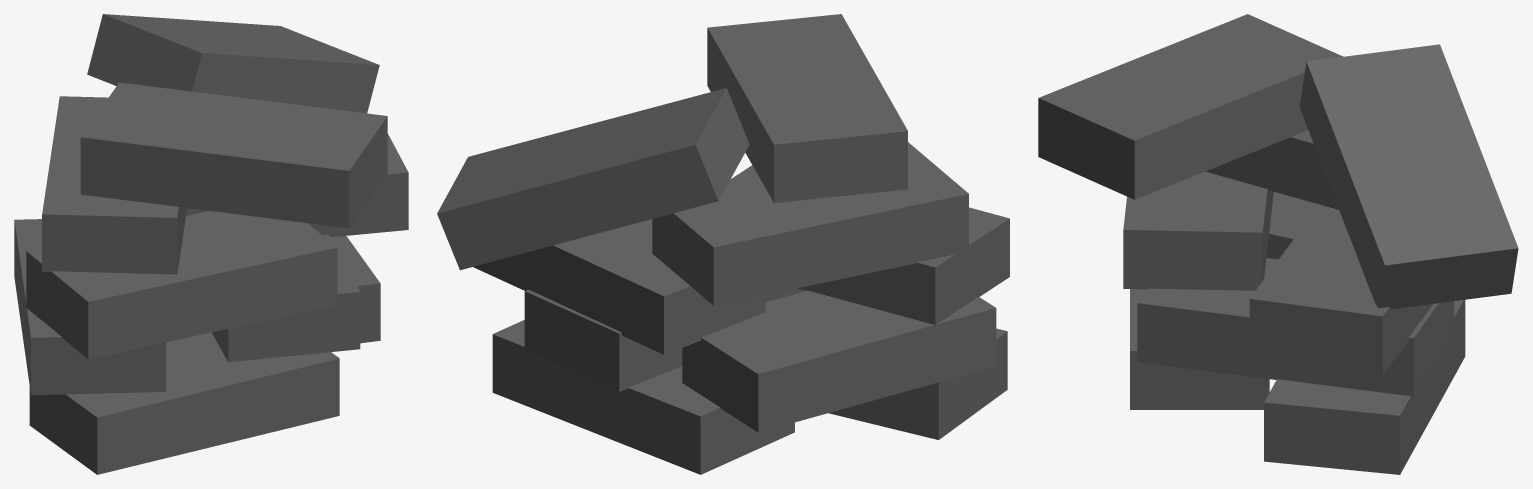
Rendered from ColoredLooseBricks5.fbx.
The picture shows the model from 3 angles, left to right: view 1: azimuth 30°, elevation 25°; view 2: azimuth 150°, elevation 25°; view 3: azimuth 270°, elevation 25°; orthographic projection. The views are drawn at different scales.
Visible parts, largest first — view 1: Cube.009; view 2: Cube.009; view 3: Cube.009.
Part boxes in pixels (x1=…): Cube.009: x1=14, y1=14, x2=408, y2=474; Cube.009: x1=437, y1=14, x2=1009, y2=474; Cube.009: x1=1038, y1=14, x2=1518, y2=474.
Size of the model in its own units: 92.36 by 63.63 by 85.92.
